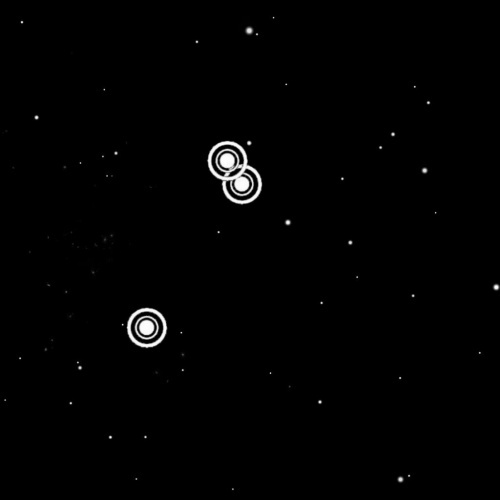canis_minor: (122, 135, 270, 355)
